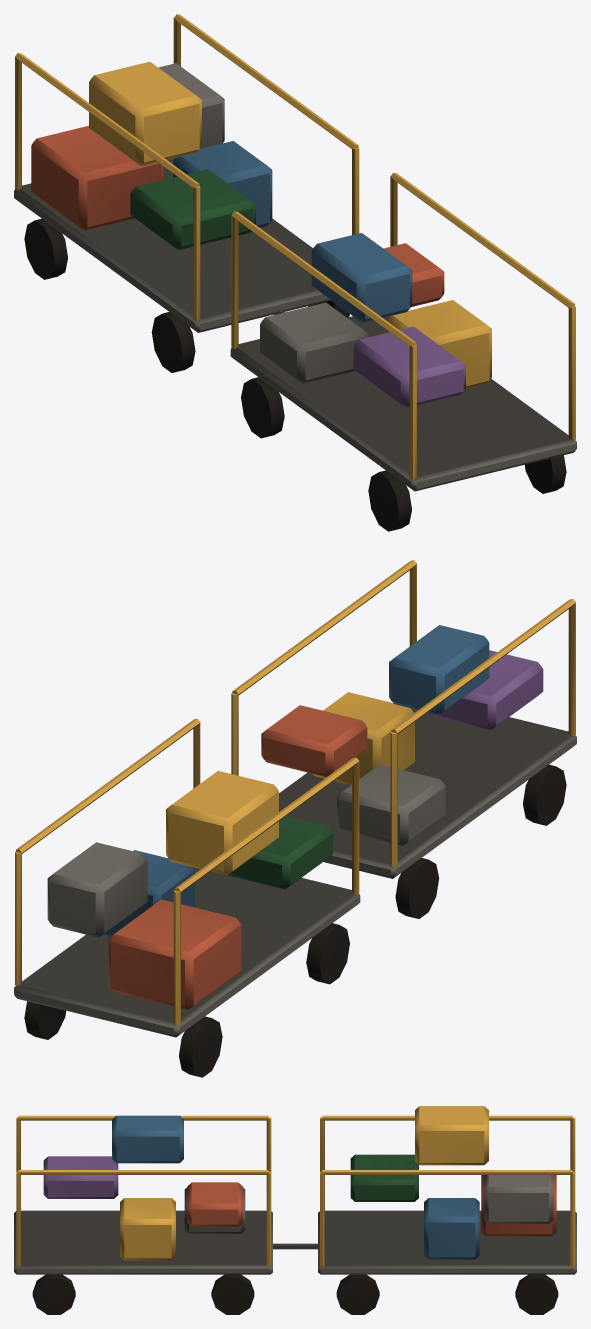
The model's file is baggage_cart.glb.
3 views of the same model, one above another, from view 1: azimuth 30°, elevation 25°; view 2: azimuth 150°, elevation 25°; view 3: azimuth 270°, elevation 25° (orthographic). The views are drawn at different scales.
Visible parts, largest first — view 1: baggage_cart_mesh; view 2: baggage_cart_mesh; view 3: baggage_cart_mesh.
Boxes of the visible parts, left/top/right/bottom form: baggage_cart_mesh: left=14, top=14, right=576, bottom=531; baggage_cart_mesh: left=14, top=560, right=576, bottom=1077; baggage_cart_mesh: left=14, top=1106, right=576, bottom=1314.
Size of the model in its own units: 1.52 by 1.94 by 6.3.
